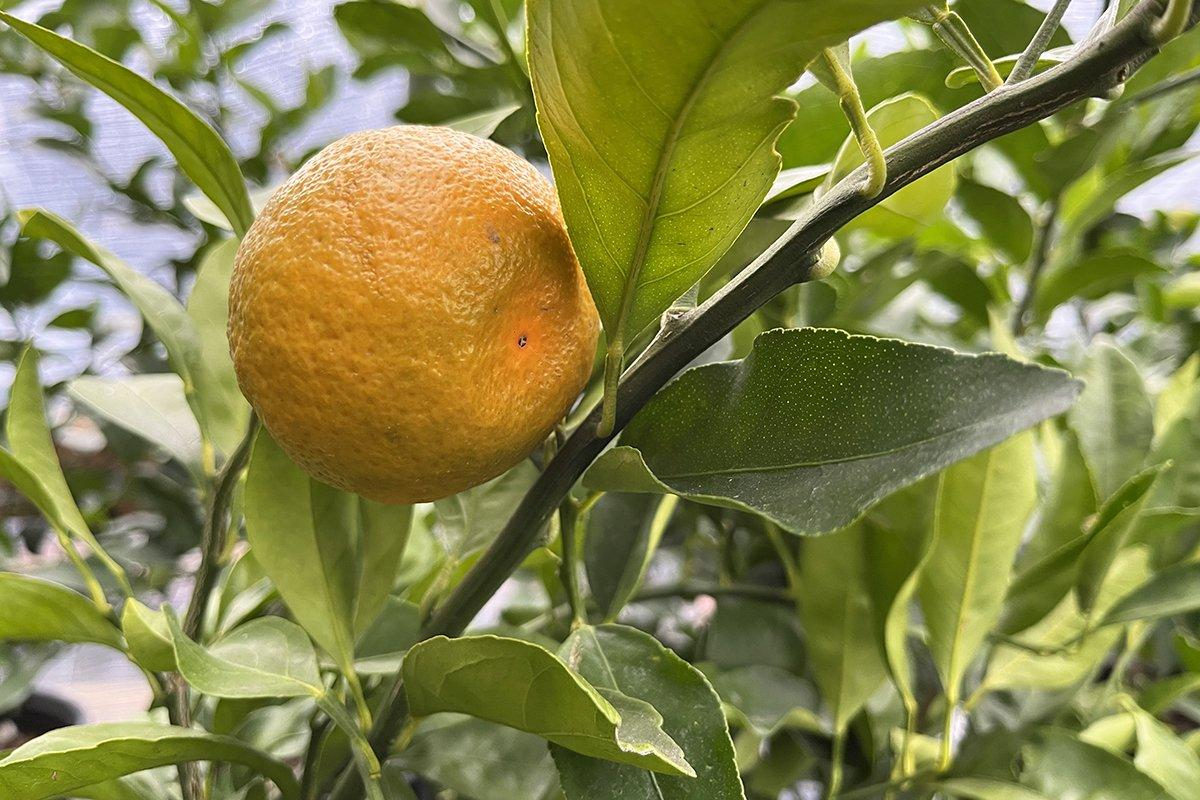Healthy Citrus: (597, 318, 1096, 539), (543, 630, 741, 800)
